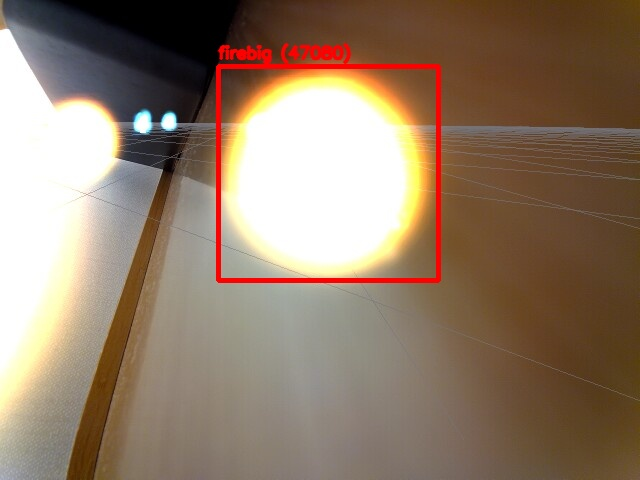firebig: (218, 66, 438, 280)
